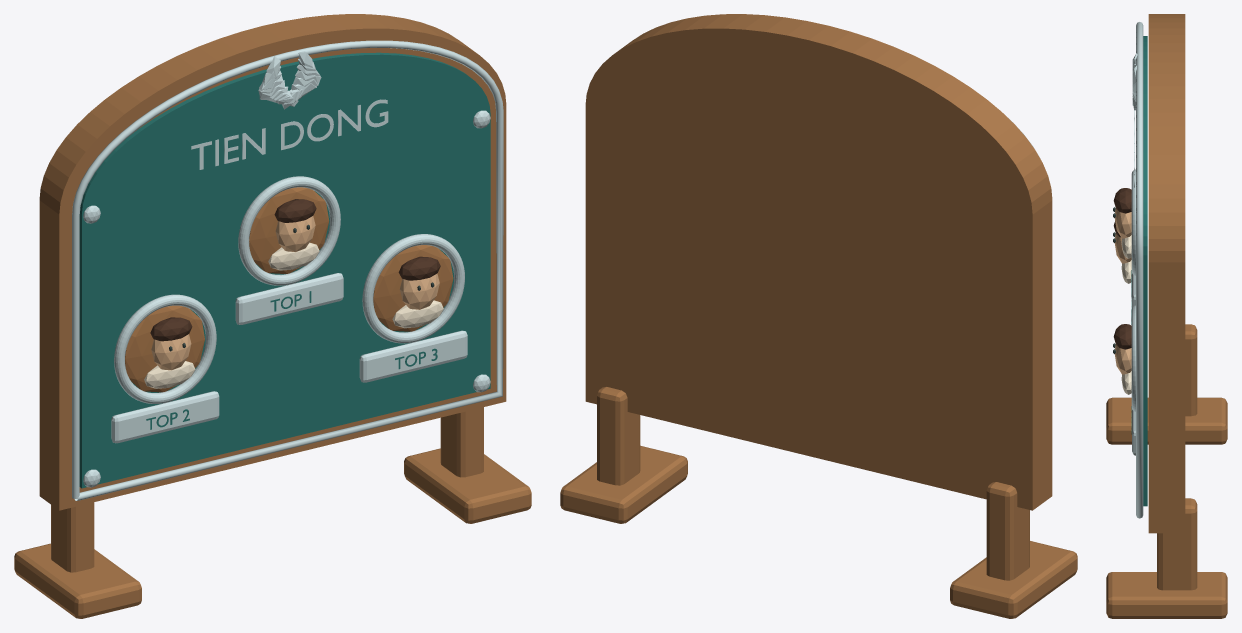
The model's file is honor-silver.glb.
The picture shows the model from 3 angles, left to right: view 1: azimuth 30°, elevation 25°; view 2: azimuth 150°, elevation 25°; view 3: azimuth 270°, elevation 25°; orthographic projection. The views are drawn at different scales.
Parts seen in each view (by area): view 1: honor_inset, honor_outer_arch, honor_metal_outline, honor_foot, honor_foot.001, portrait_frame, portrait_frame.002, portrait_frame.001, nameplate, nameplate.002, nameplate.001, portrait_back (+14 smaller); view 2: honor_outer_arch, honor_foot.001, honor_foot, honor_support, honor_support.001; view 3: honor_outer_arch, honor_foot.001, honor_metal_outline, honor_foot, honor_support.001, honor_inset, honor_support, portrait_frame, portrait_frame.002, portrait_head.002, portrait_head, portrait_hair (+5 smaller).
Boxes of the visible parts, bbox=[...] form: honor_inset: bbox=[79, 52, 490, 488]; honor_outer_arch: bbox=[39, 14, 506, 510]; honor_metal_outline: bbox=[72, 40, 503, 500]; honor_foot: bbox=[14, 543, 141, 618]; honor_foot.001: bbox=[404, 448, 531, 523]; portrait_frame: bbox=[238, 176, 340, 285]; portrait_frame.002: bbox=[362, 234, 464, 343]; portrait_frame.001: bbox=[114, 294, 216, 403]; nameplate: bbox=[235, 273, 343, 324]; nameplate.002: bbox=[359, 330, 467, 382]; nameplate.001: bbox=[111, 391, 219, 443]; portrait_back: bbox=[249, 187, 329, 273]; honor_outer_arch: bbox=[585, 14, 1052, 510]; honor_foot.001: bbox=[560, 445, 687, 523]; honor_foot: bbox=[950, 541, 1077, 618]; honor_support: bbox=[986, 482, 1029, 580]; honor_support.001: bbox=[597, 387, 640, 485]; honor_outer_arch: bbox=[1148, 14, 1185, 533]; honor_foot.001: bbox=[1106, 572, 1227, 618]; honor_metal_outline: bbox=[1136, 22, 1143, 518]; honor_foot: bbox=[1106, 397, 1227, 444]; honor_support.001: bbox=[1157, 498, 1197, 590]; honor_inset: bbox=[1143, 36, 1147, 506]; honor_support: bbox=[1185, 324, 1197, 416]; portrait_frame: bbox=[1131, 169, 1135, 275]; portrait_frame.002: bbox=[1131, 305, 1135, 411]; portrait_head.002: bbox=[1114, 344, 1131, 374]; portrait_head: bbox=[1114, 208, 1131, 238]; portrait_hair: bbox=[1113, 188, 1131, 213].
Bounding box in the file's own units: 2.39 × 2.55 × 0.6.
